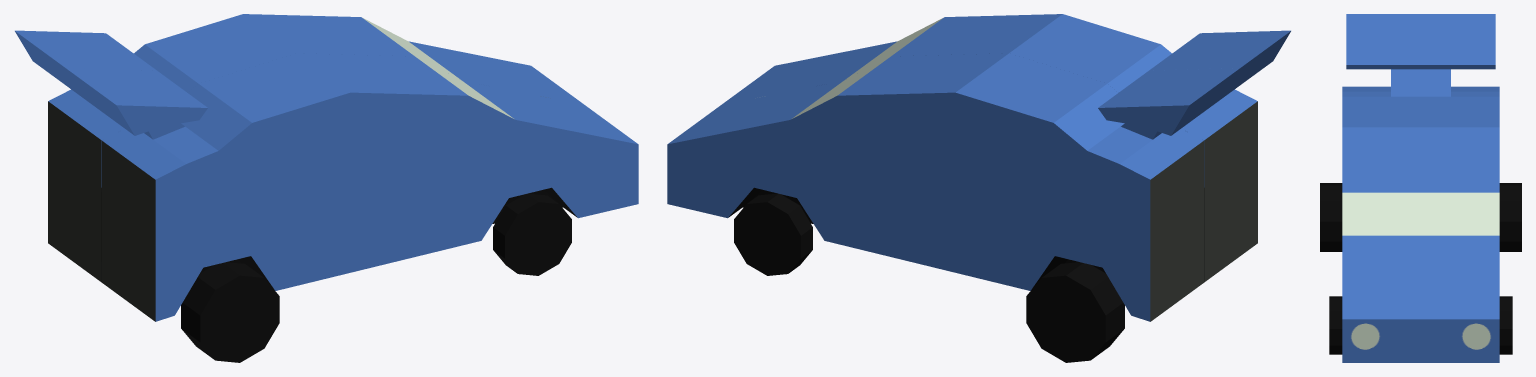
The model's file is voiture.obj.
The picture shows the model from 3 angles, left to right: view 1: azimuth 30°, elevation 25°; view 2: azimuth 150°, elevation 25°; view 3: azimuth 270°, elevation 25°; orthographic projection. The views are drawn at different scales.
Visible parts, largest first — view 1: 1, 2; view 2: 1, 2; view 3: 1, 2.
Part boxes in pixels (x1,y1,x2,y2): 1: [15, 14, 638, 321]; 2: [48, 101, 577, 362]; 1: [667, 14, 1290, 321]; 2: [728, 101, 1257, 362]; 1: [1342, 14, 1499, 362]; 2: [1320, 183, 1521, 354].
Size of the model in its own units: 4.06 by 2.02 by 1.87.
3 materials, 1 textured.
